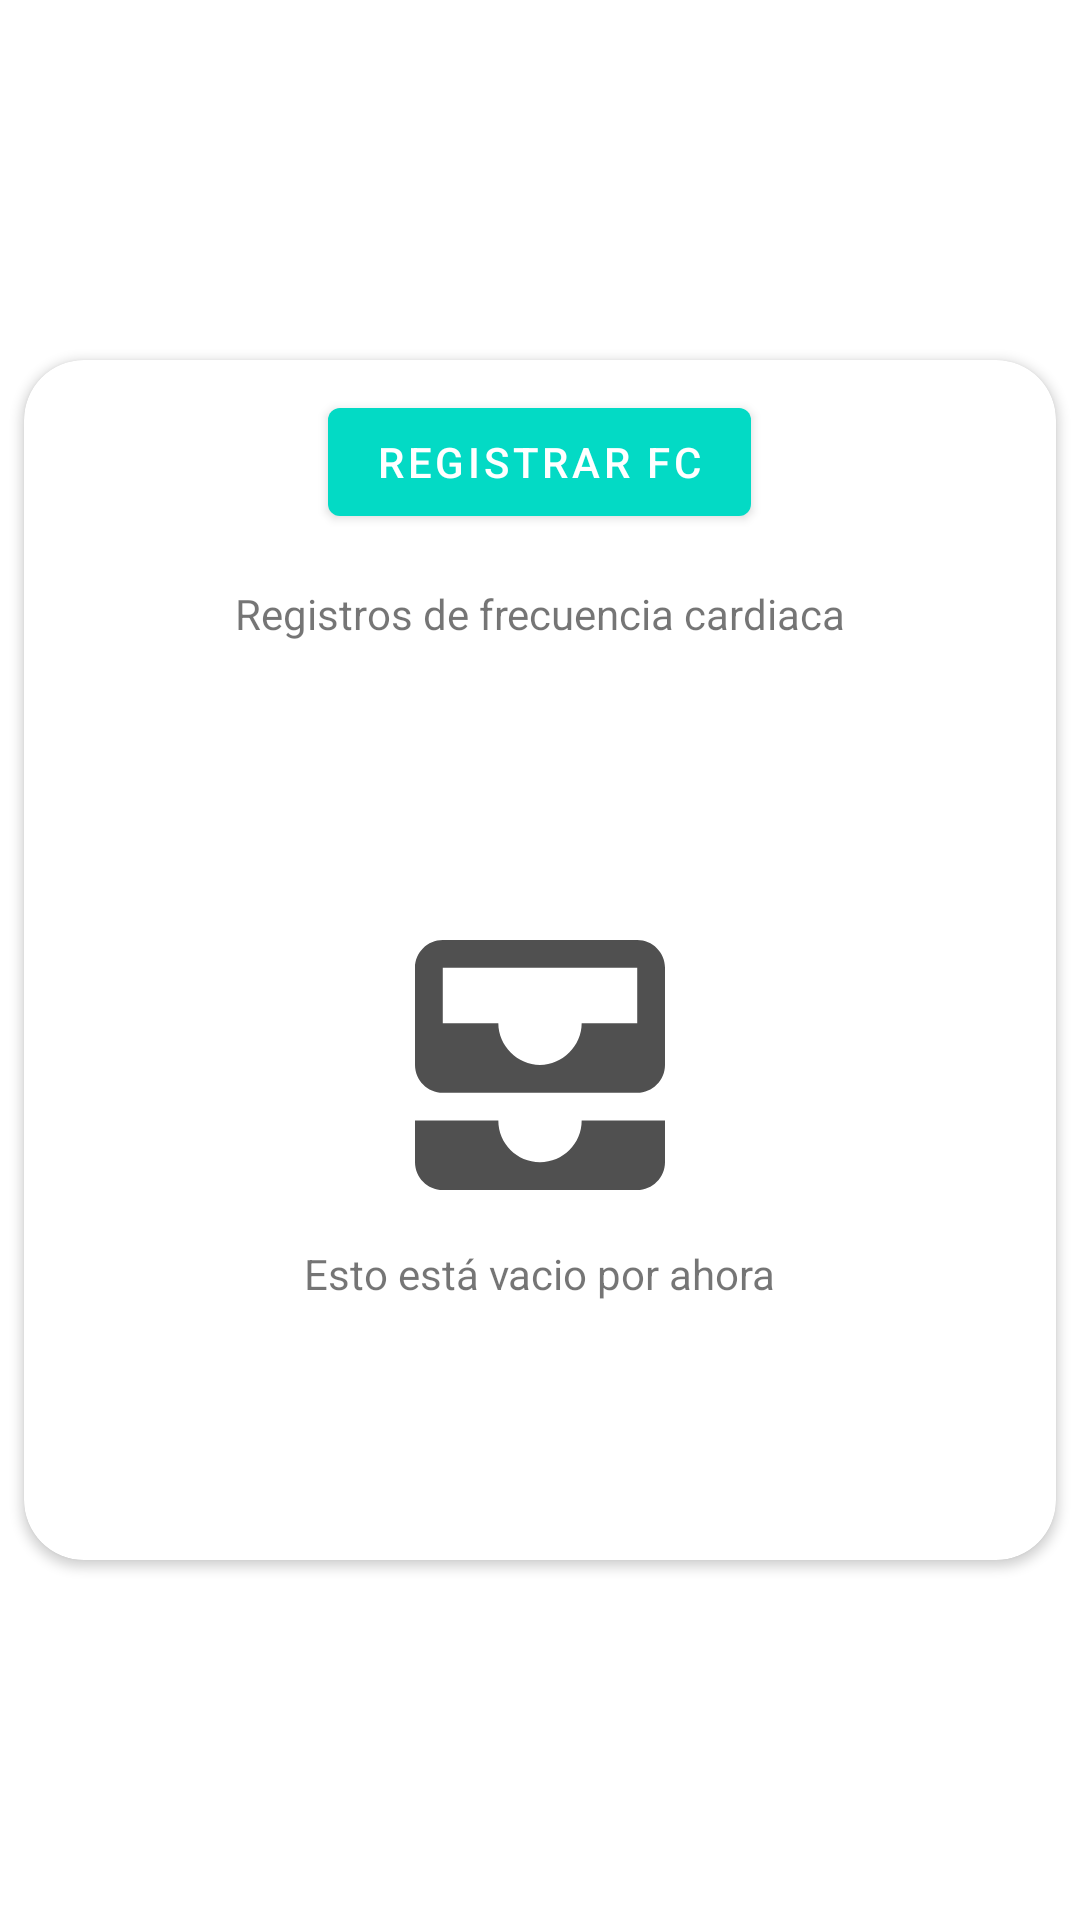

Icon click points for this 1080 x 1920 phone screenshot, format point (x, y):
historicosvacio: point (540, 1065)
